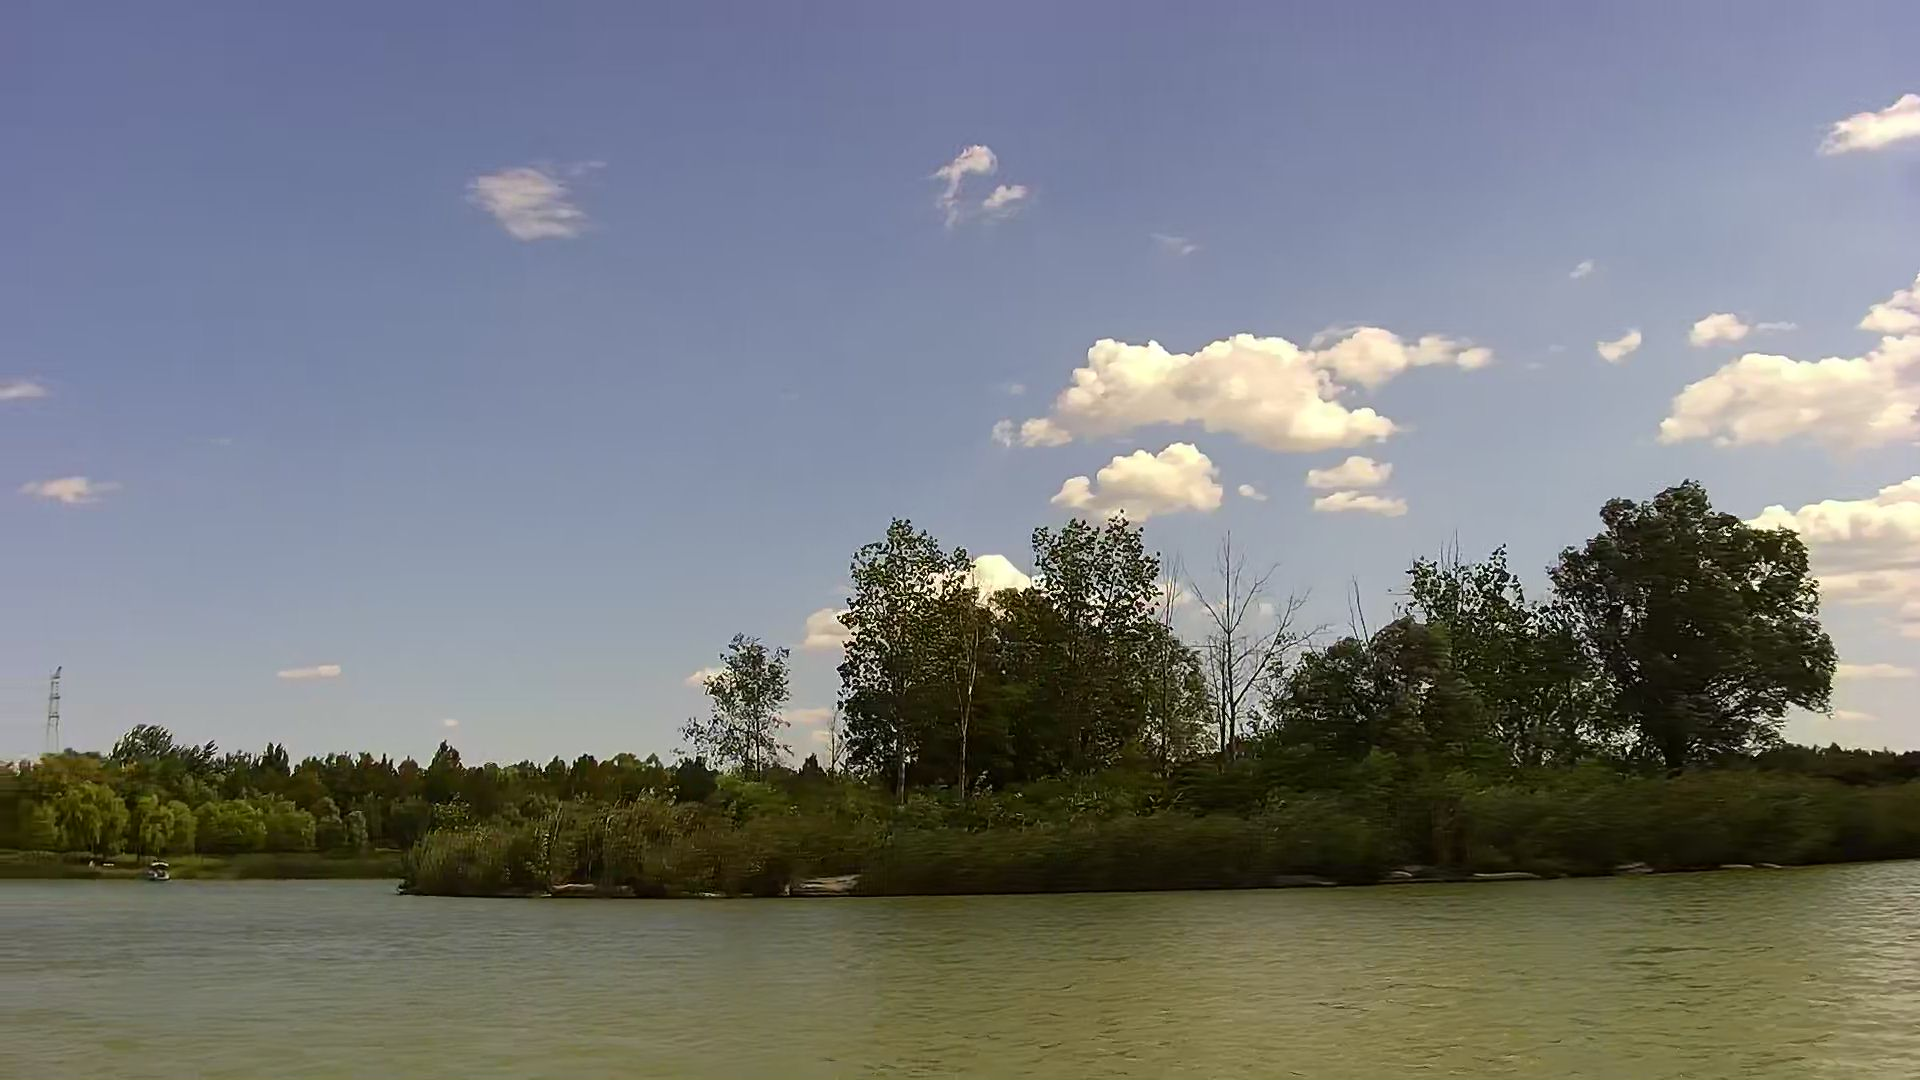rock: (786, 870, 866, 895), (549, 884, 621, 895)
